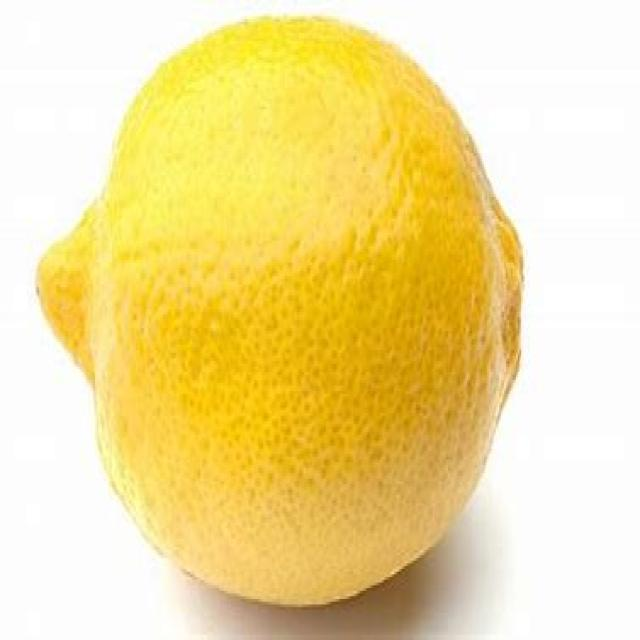lemon: (14, 5, 562, 621)
